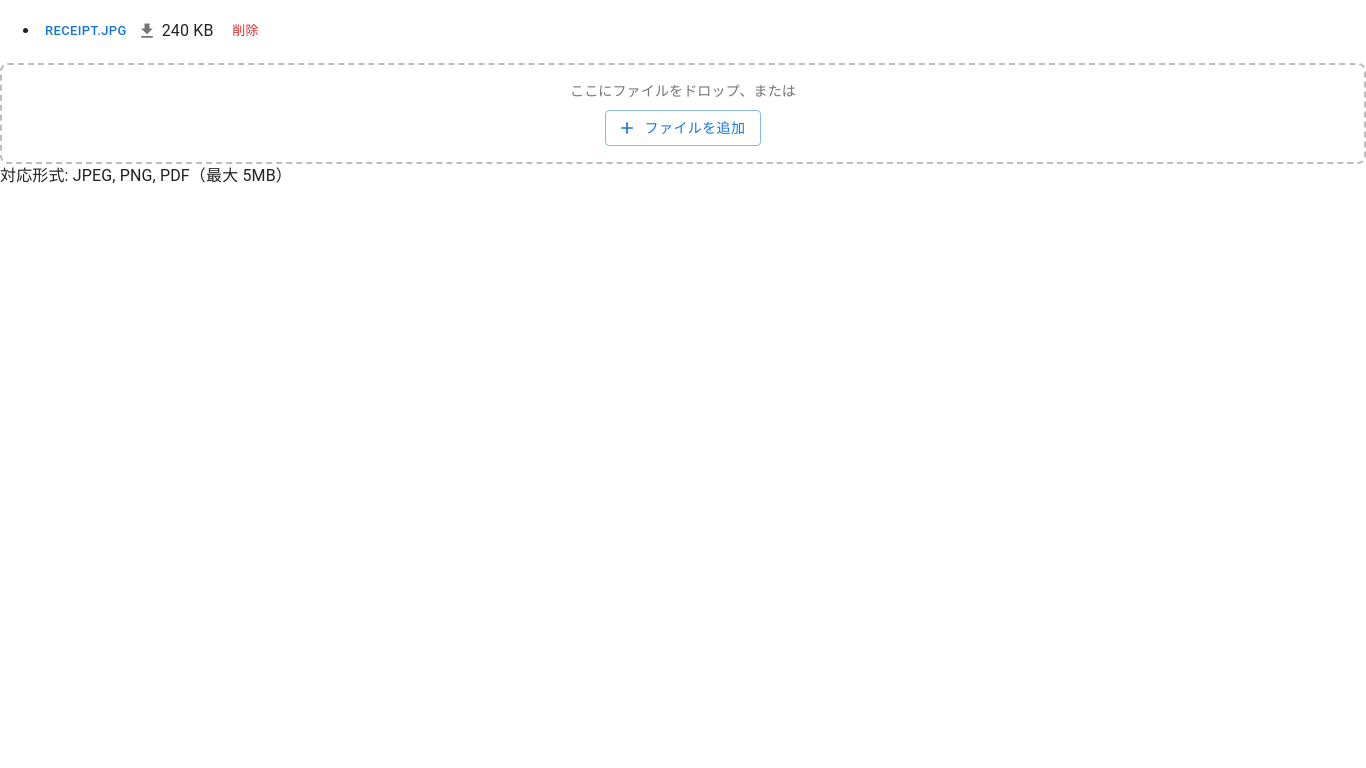
Test: AttachmentArea W1: 添付削除ダイアログ loading prop 連動テスト › SMK-011-W1-ATT2: 添付削除 API 成功後はダイアログが閉じること（loading 連動後の正常系回帰）
// 削除ボタンをクリックして確認ダイアログを開く。
Click the button with test id "attachment-delete-att-001". click: [246, 31]
box: left=214, top=16, right=278, bottom=47
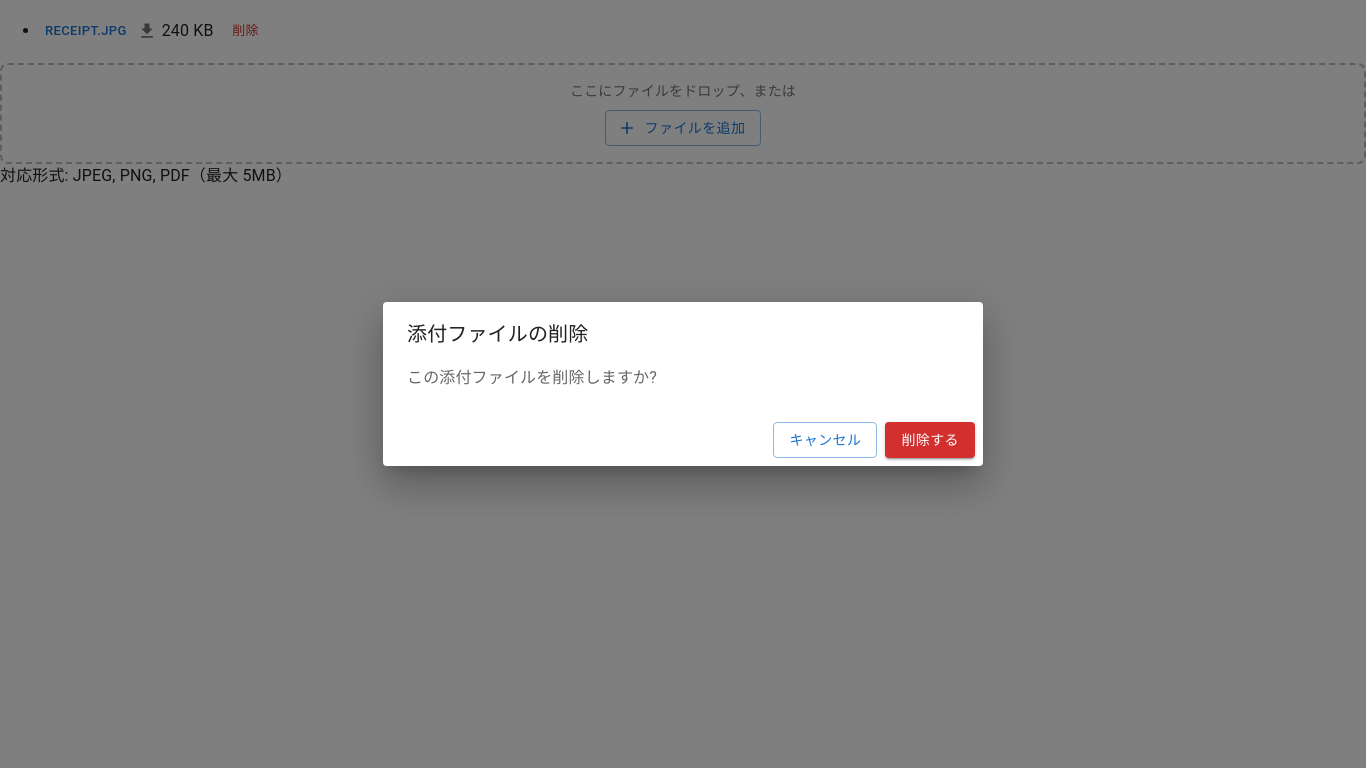
Now the dialog is shown, box left=383, top=302, right=983, bottom=466
// 「削除する」ボタンをクリックする。
Click the button "削除する". click: [930, 440]
box: left=885, top=422, right=975, bottom=458
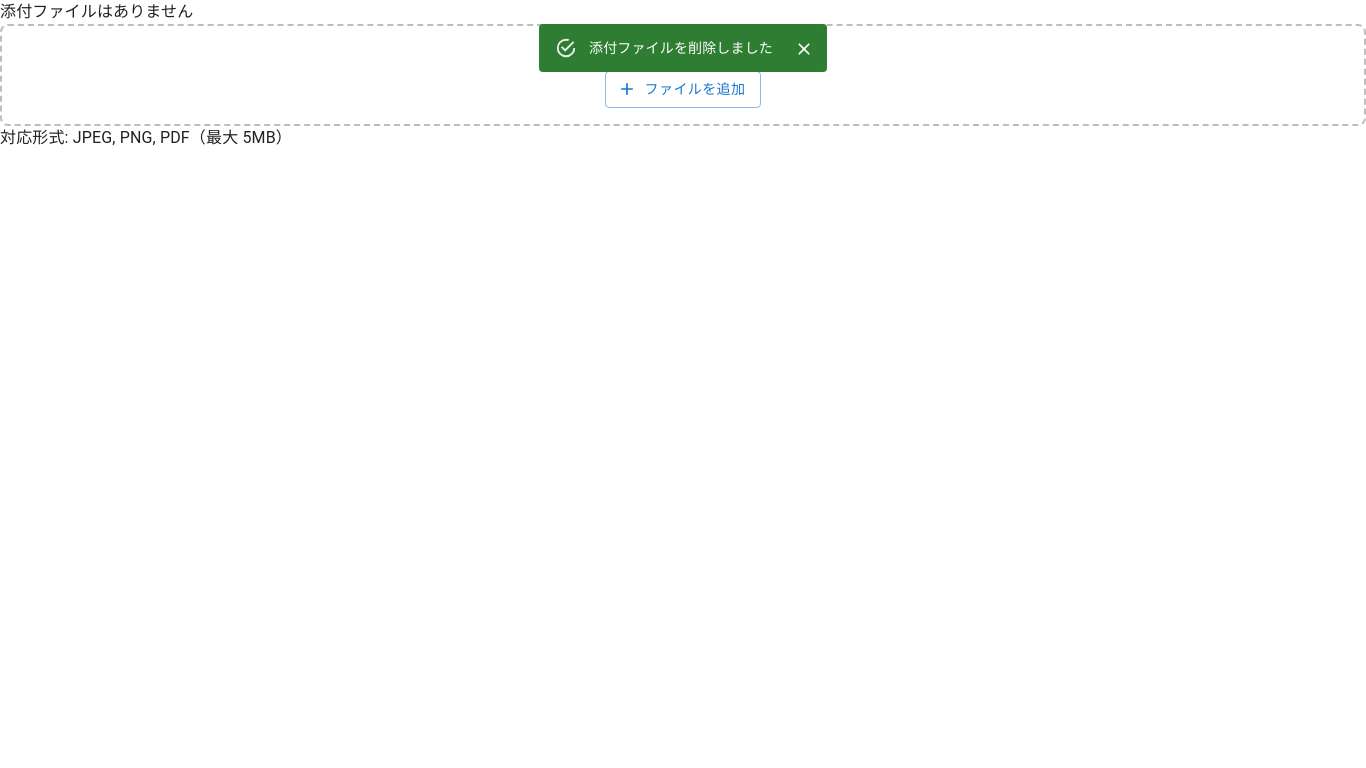
Now the dialog is gone
